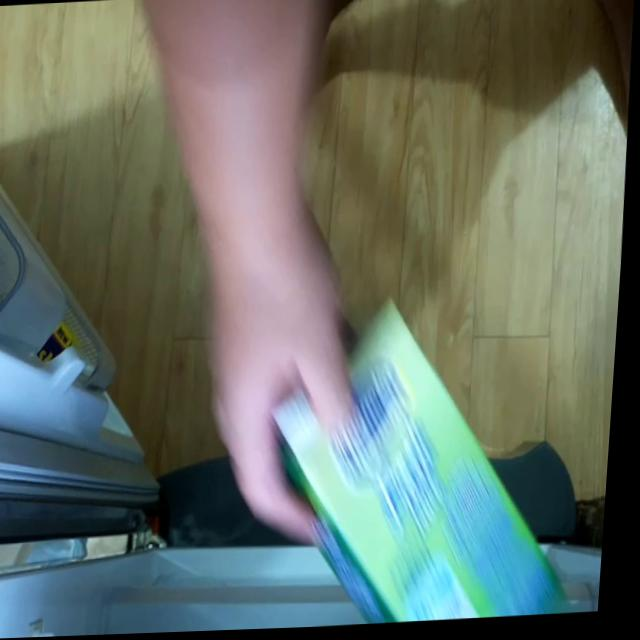milk: (271, 292, 588, 631)
